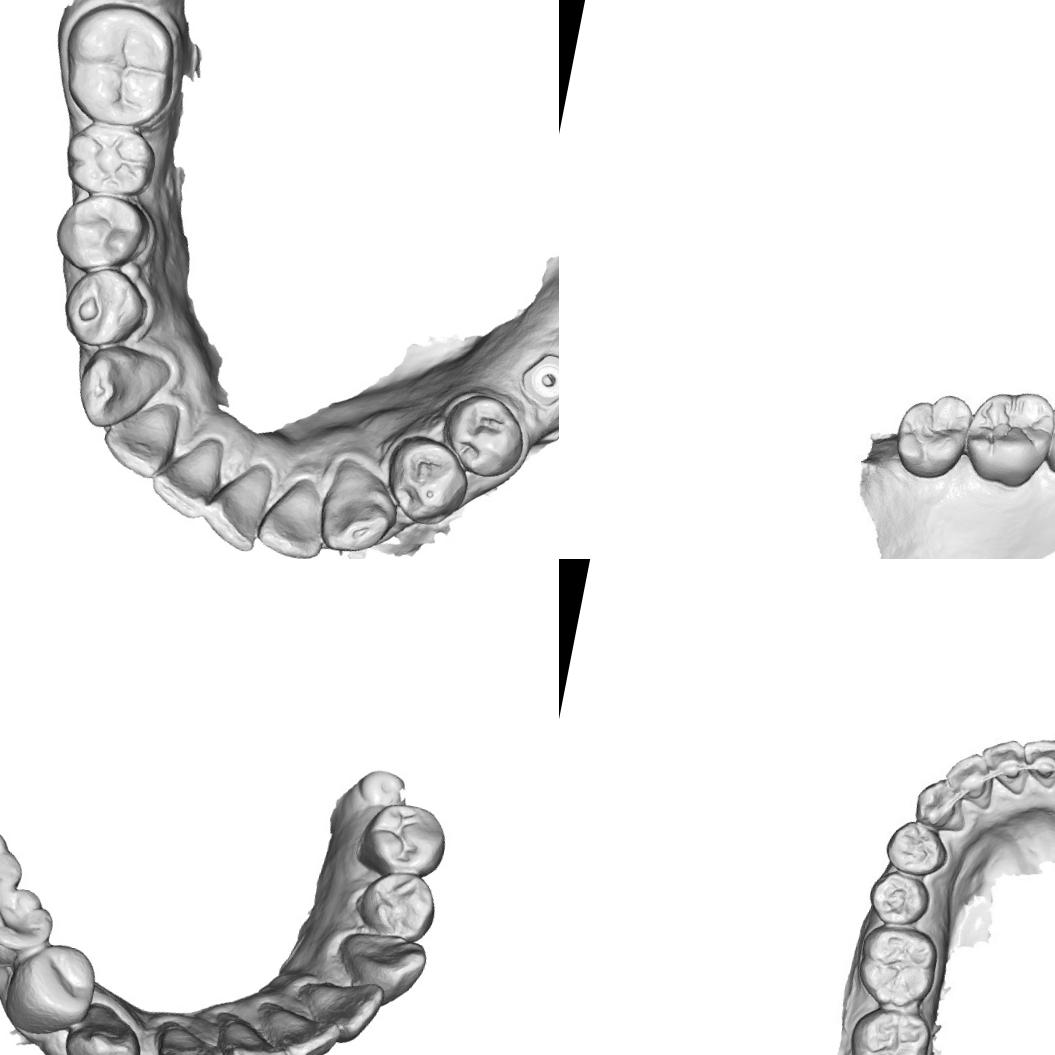canine: (68, 336, 171, 439), (316, 453, 406, 559), (332, 926, 426, 1006), (59, 998, 148, 1055), (910, 774, 972, 834)
implant: (515, 342, 559, 412), (356, 763, 409, 810)
incisor: (96, 391, 184, 485), (142, 434, 226, 524), (197, 456, 274, 554), (253, 471, 334, 559), (256, 993, 339, 1055), (310, 972, 380, 1038), (973, 732, 1035, 797), (938, 746, 997, 808), (153, 1017, 231, 1055), (220, 1020, 296, 1055), (1014, 730, 1055, 792)
molar: (49, 0, 186, 137), (54, 112, 162, 206), (961, 386, 1055, 489), (850, 920, 945, 1014), (898, 388, 974, 474), (840, 999, 937, 1055), (0, 813, 30, 917)
premolar: (379, 429, 477, 529), (432, 386, 530, 482), (7, 936, 98, 1036), (48, 190, 152, 276), (57, 262, 150, 354), (358, 797, 450, 880), (356, 862, 441, 945), (0, 878, 59, 967), (880, 814, 953, 880), (862, 866, 934, 932), (1038, 393, 1055, 479)
